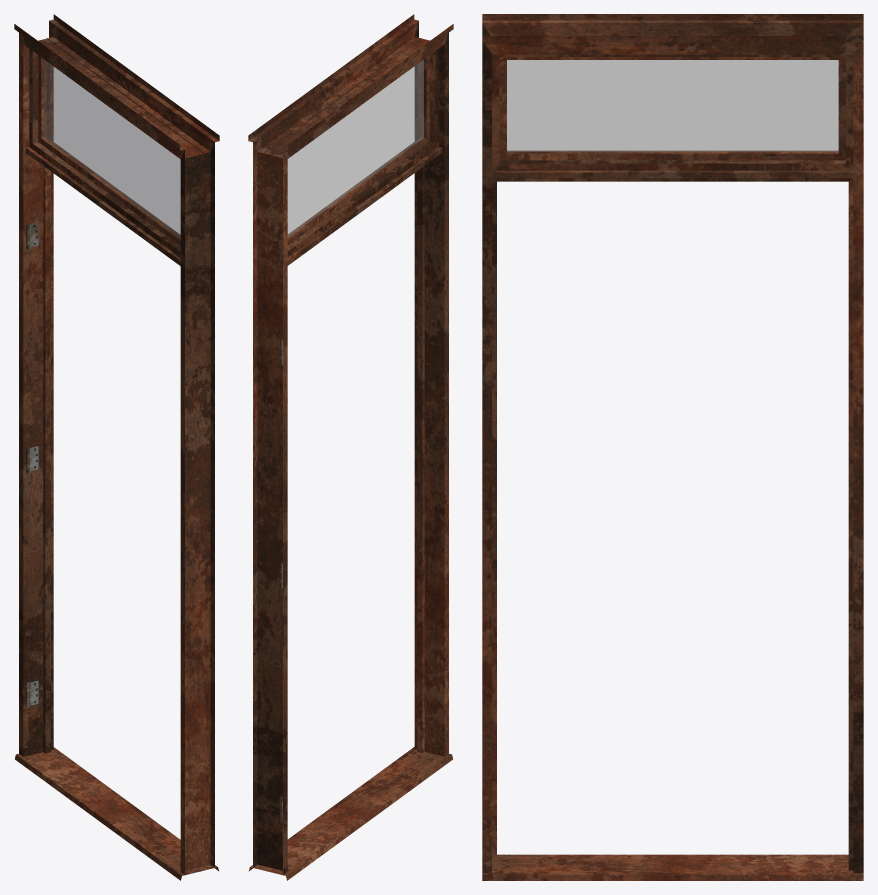
Rendered from DoorPost.fbx.
3 renders of one model, left to right at view 1: azimuth 30°, elevation 25°; view 2: azimuth 150°, elevation 25°; view 3: azimuth 270°, elevation 25°, orthographic. The views are drawn at different scales.
Visible parts, largest first — view 1: DoorPost; view 2: DoorPost; view 3: DoorPost.
Boxes of the visible parts, x1,y1,x2,y2 form: DoorPost: (14,14,219,880); DoorPost: (248,14,453,880); DoorPost: (482,14,863,880).
Bounding box in the file's own units: 0.1843 × 3.3 × 1.35.
